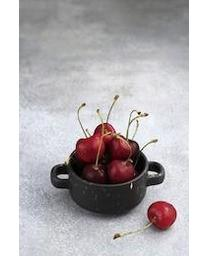cherry: (146, 200, 177, 230), (106, 136, 138, 161), (76, 136, 104, 162), (106, 157, 134, 183), (81, 160, 104, 184), (95, 123, 117, 144)
